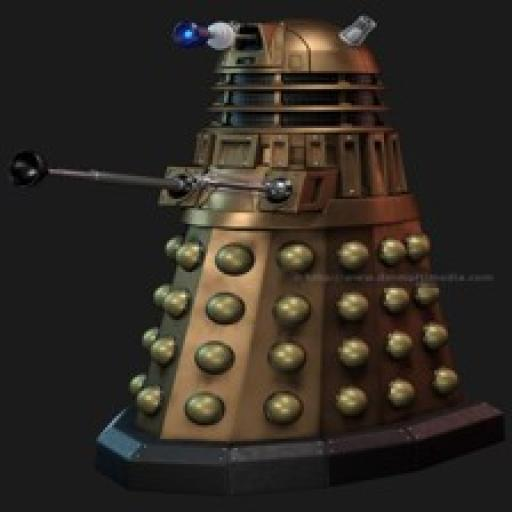dalek: (5, 11, 512, 497)
